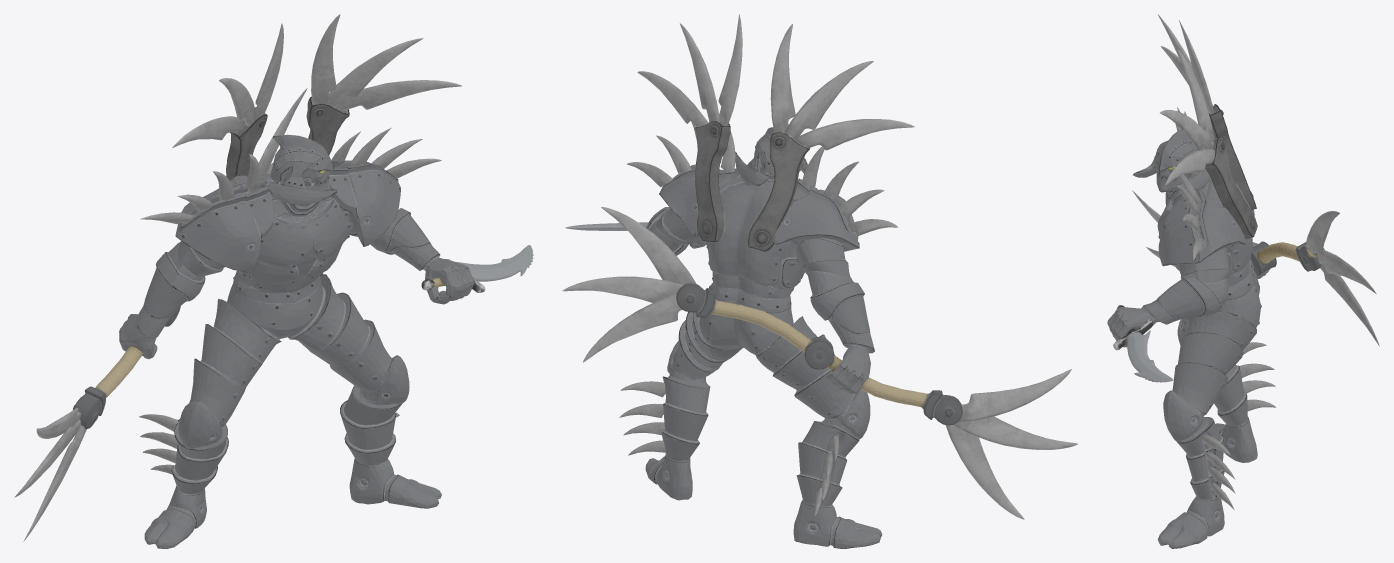
Rendered from MZ4250 - Lord of Blades.glb.
The picture shows the model from 3 angles, left to right: view 1: azimuth 30°, elevation 25°; view 2: azimuth 150°, elevation 25°; view 3: azimuth 270°, elevation 25°; orthographic projection. The views are drawn at different scales.
Parts seen in each view (by area): view 1: Body.001, Cube.004, Cube.002, Cylinder.002, Funky Dagger.002; view 2: Body.001, Cube.004, Cube.002, Cylinder.002; view 3: Body.001, Cube.004, Cube.002, Funky Dagger.002, Cylinder.002.
Part boxes in pixels (x1,y1,x2,y2): Body.001: (119, 134, 474, 548); Cube.004: (14, 14, 461, 541); Cube.002: (226, 96, 349, 180); Cylinder.002: (73, 306, 180, 429); Funky Dagger.002: (421, 245, 533, 292); Body.001: (645, 127, 882, 548); Cube.004: (562, 14, 1077, 519); Cube.002: (695, 120, 809, 251); Cylinder.002: (676, 283, 962, 425); Body.001: (1107, 129, 1269, 548); Cube.004: (1132, 14, 1379, 510); Cube.002: (1205, 104, 1257, 239); Funky Dagger.002: (1113, 305, 1173, 382); Cylinder.002: (1250, 241, 1324, 275).
Size of the model in its own units: 7.93 by 7.34 by 3.9.
5 materials, 5 textured.
